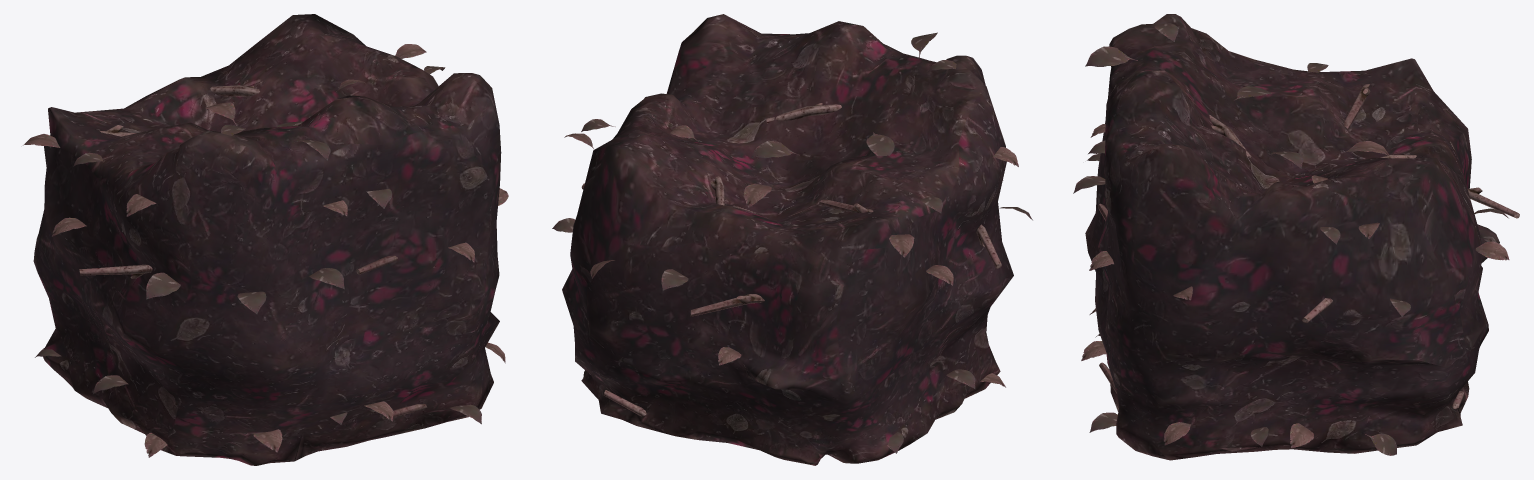
The picture shows the model from 3 angles, left to right: view 1: azimuth 30°, elevation 25°; view 2: azimuth 150°, elevation 25°; view 3: azimuth 270°, elevation 25°; orthographic projection. The views are drawn at different scales.
Visible parts, largest first — view 1: SM_Compost_Ultra_01v2_LOD0; view 2: SM_Compost_Ultra_01v2_LOD0; view 3: SM_Compost_Ultra_01v2_LOD0.
Boxes of the visible parts, x1=… form: SM_Compost_Ultra_01v2_LOD0: x1=23, y1=14, x2=508, y2=465; SM_Compost_Ultra_01v2_LOD0: x1=552, y1=14, x2=1032, y2=465; SM_Compost_Ultra_01v2_LOD0: x1=1073, y1=14, x2=1519, y2=460.
Bounding box in the file's own units: 1.2 × 0.915 × 1.16.
1 material, 1 textured.
